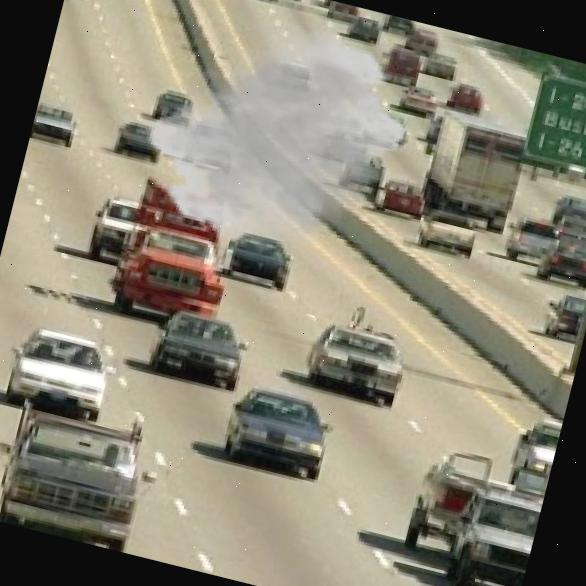smoke: (124, 0, 430, 280)
